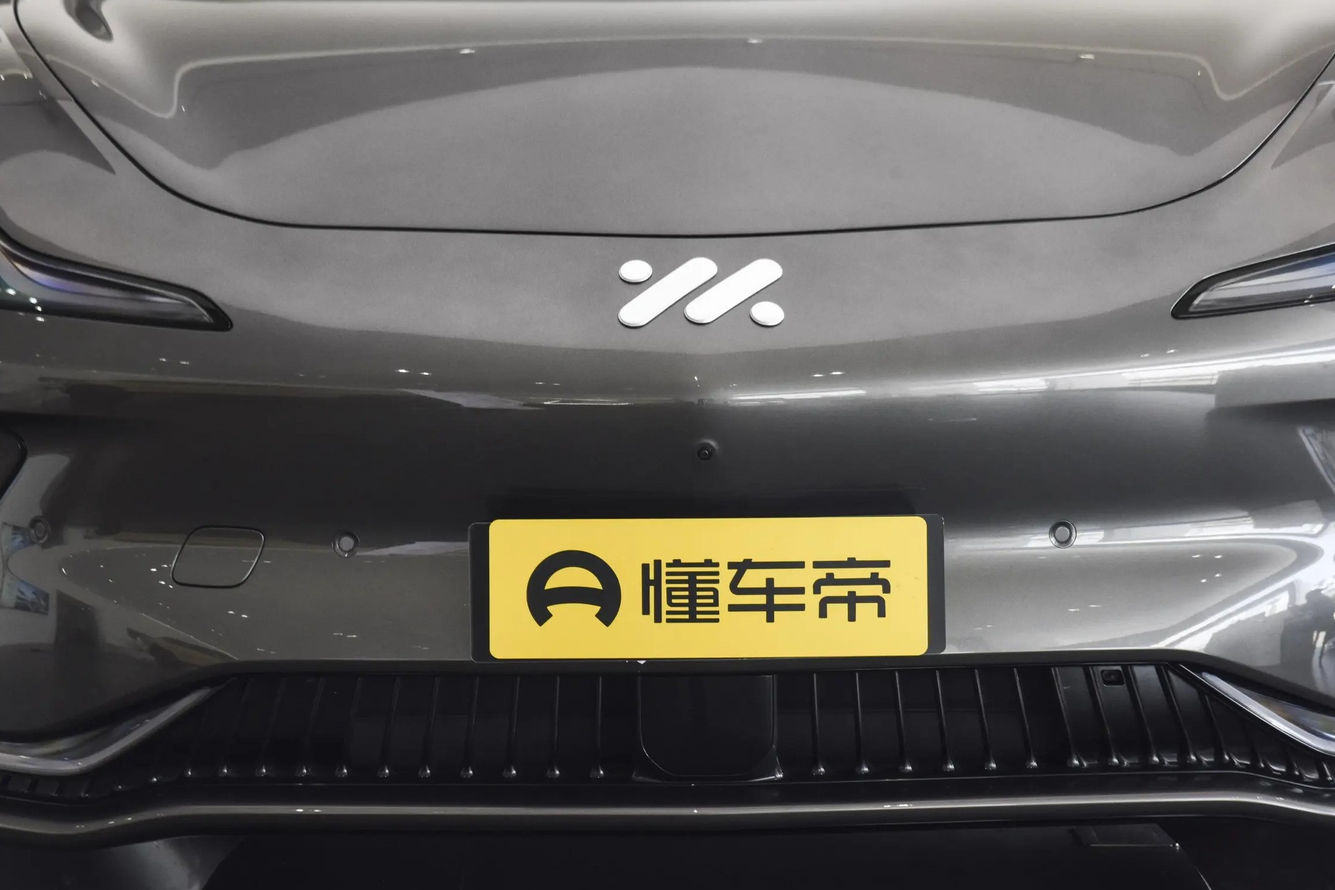IM: (619, 258, 784, 325)
